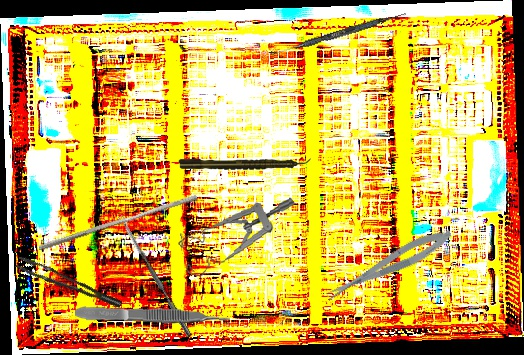Handpiece: (178, 158, 311, 170)
Micro Scissor: (320, 223, 457, 306)
Pusher: (37, 188, 199, 258)
Spatula Surgical: (269, 8, 407, 60)
Speculum: (174, 195, 302, 280)
Surgical Spoon: (118, 214, 193, 338)
Tissue Forceps: (14, 246, 123, 322), (74, 303, 231, 329)
